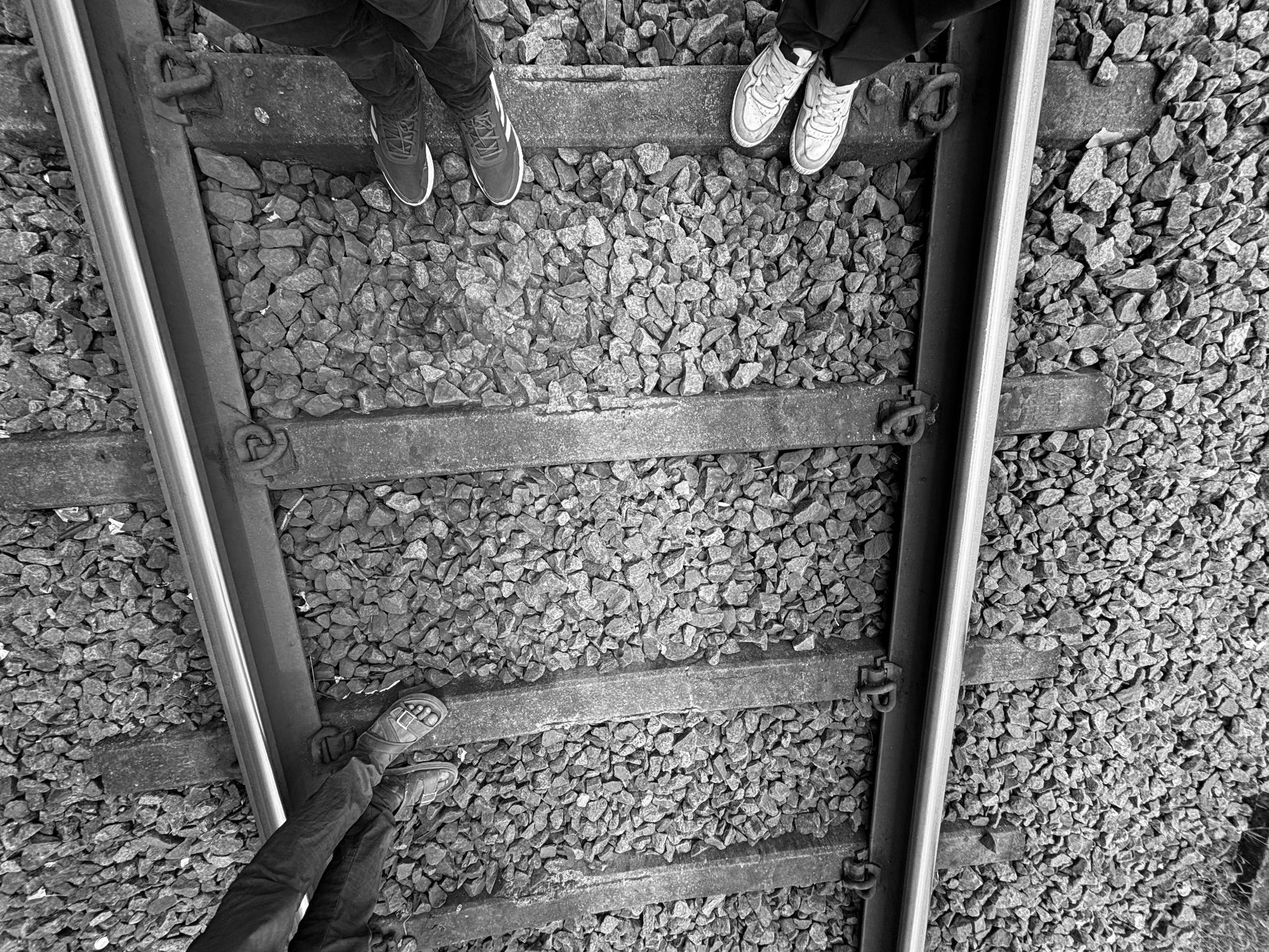cracks in midportion: (482, 379, 705, 434)
